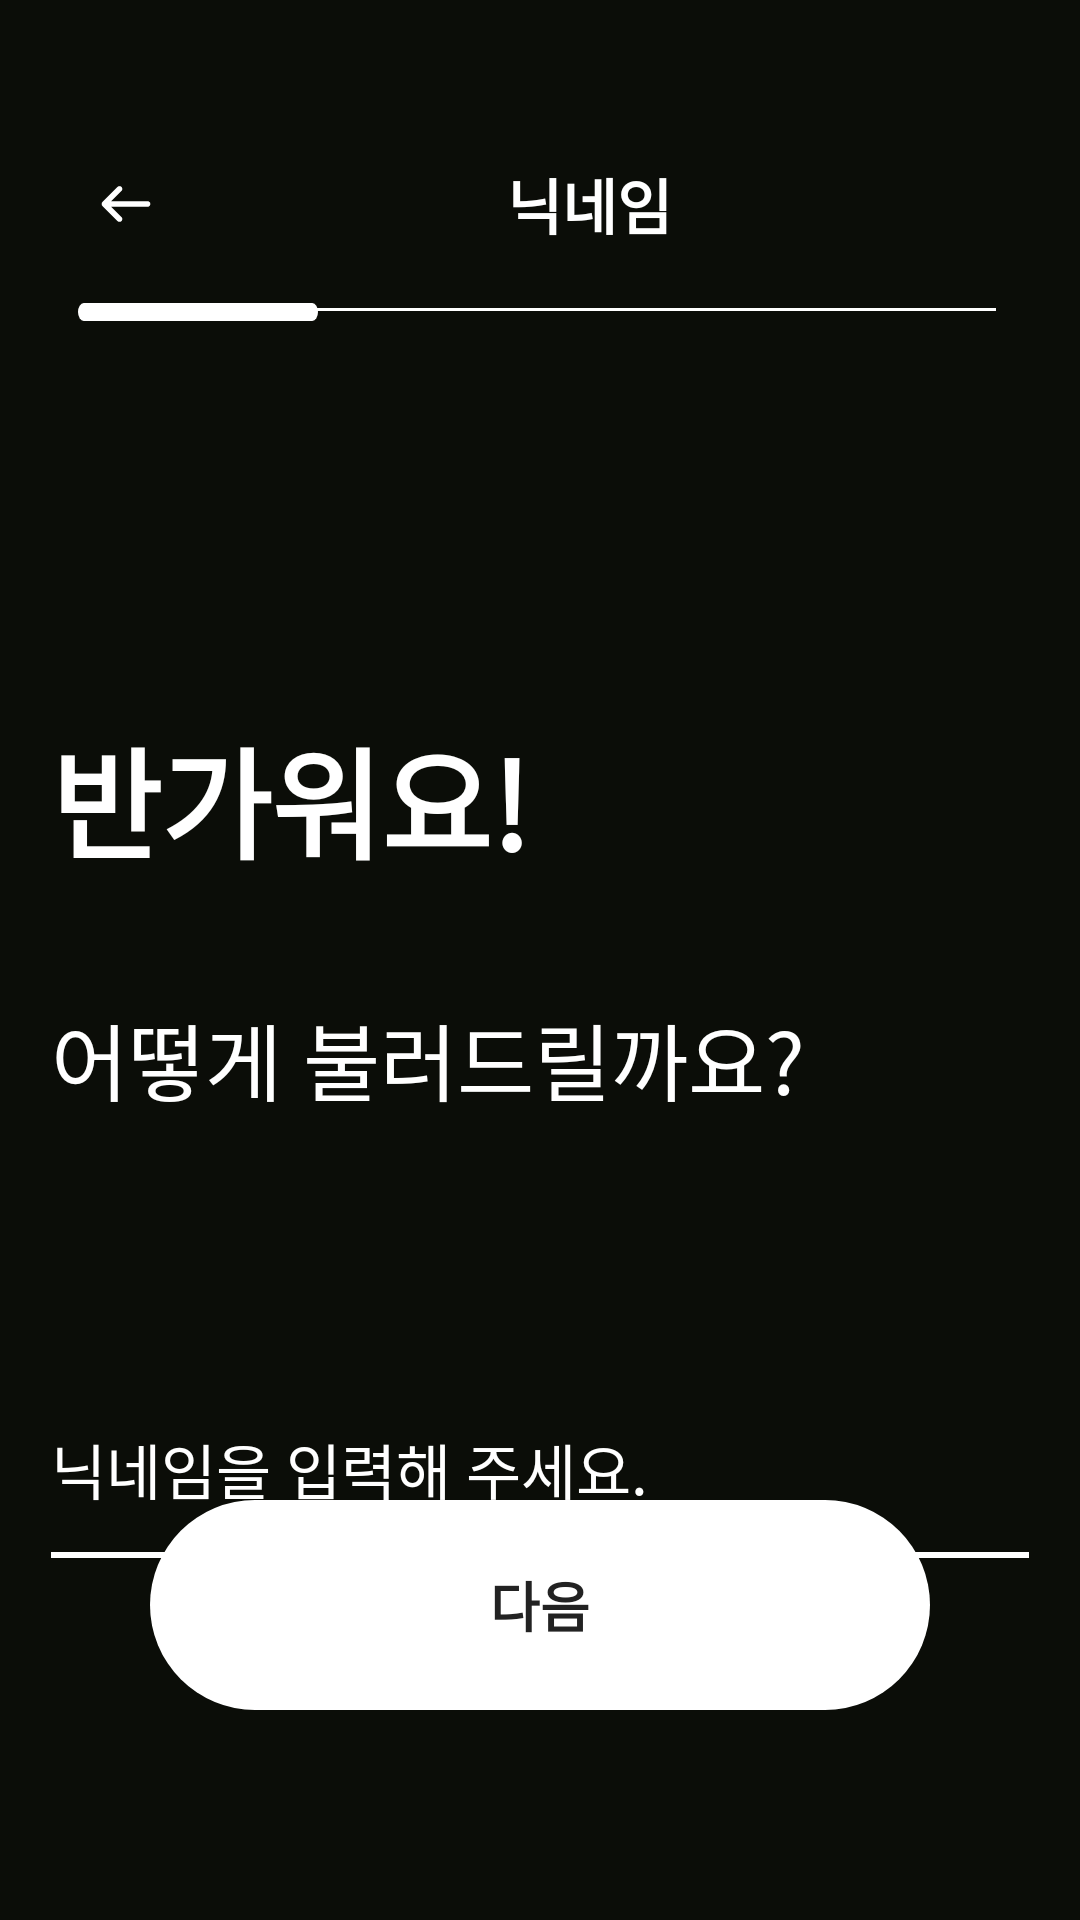

Where to tap for icons on this 1080 x 1920 app screen, as (x,y):
backarrow: (126,204)
